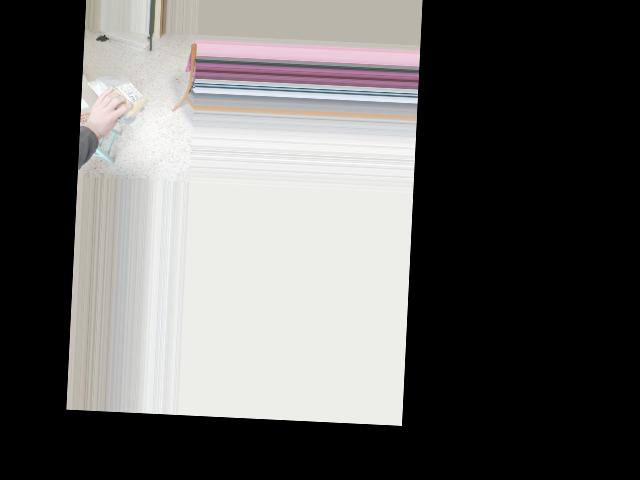cheese: (84, 77, 146, 113)
